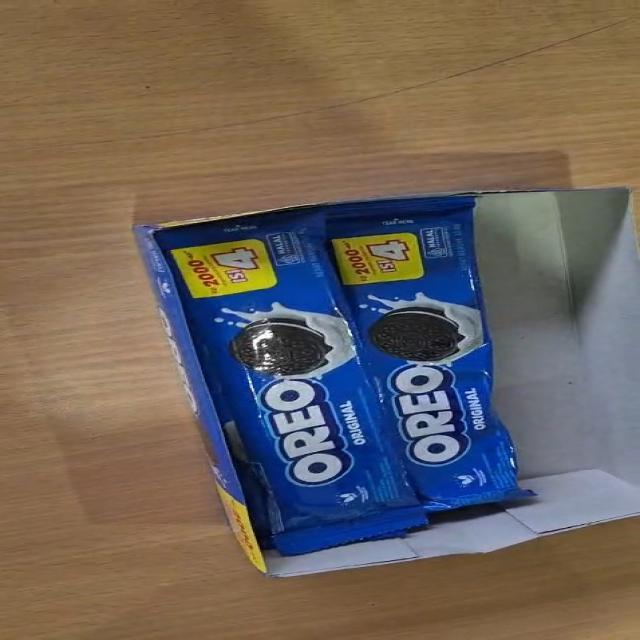Oreo: (135, 207, 430, 557), (322, 196, 538, 509)
